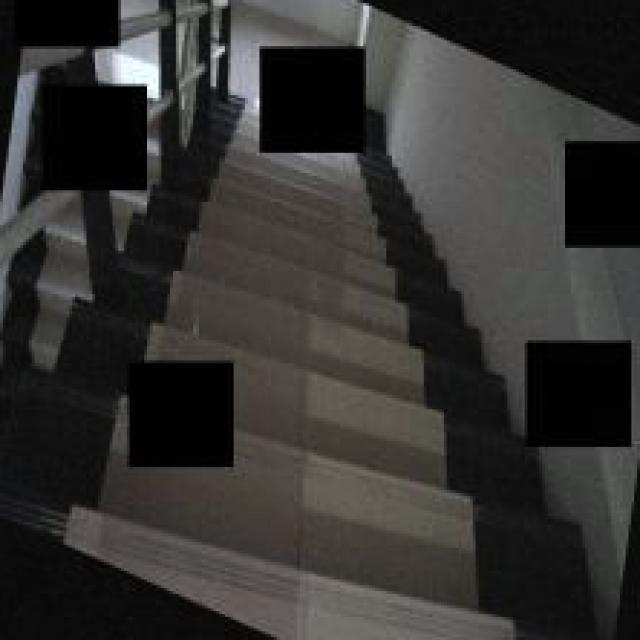downstair: (249, 174, 528, 640)
